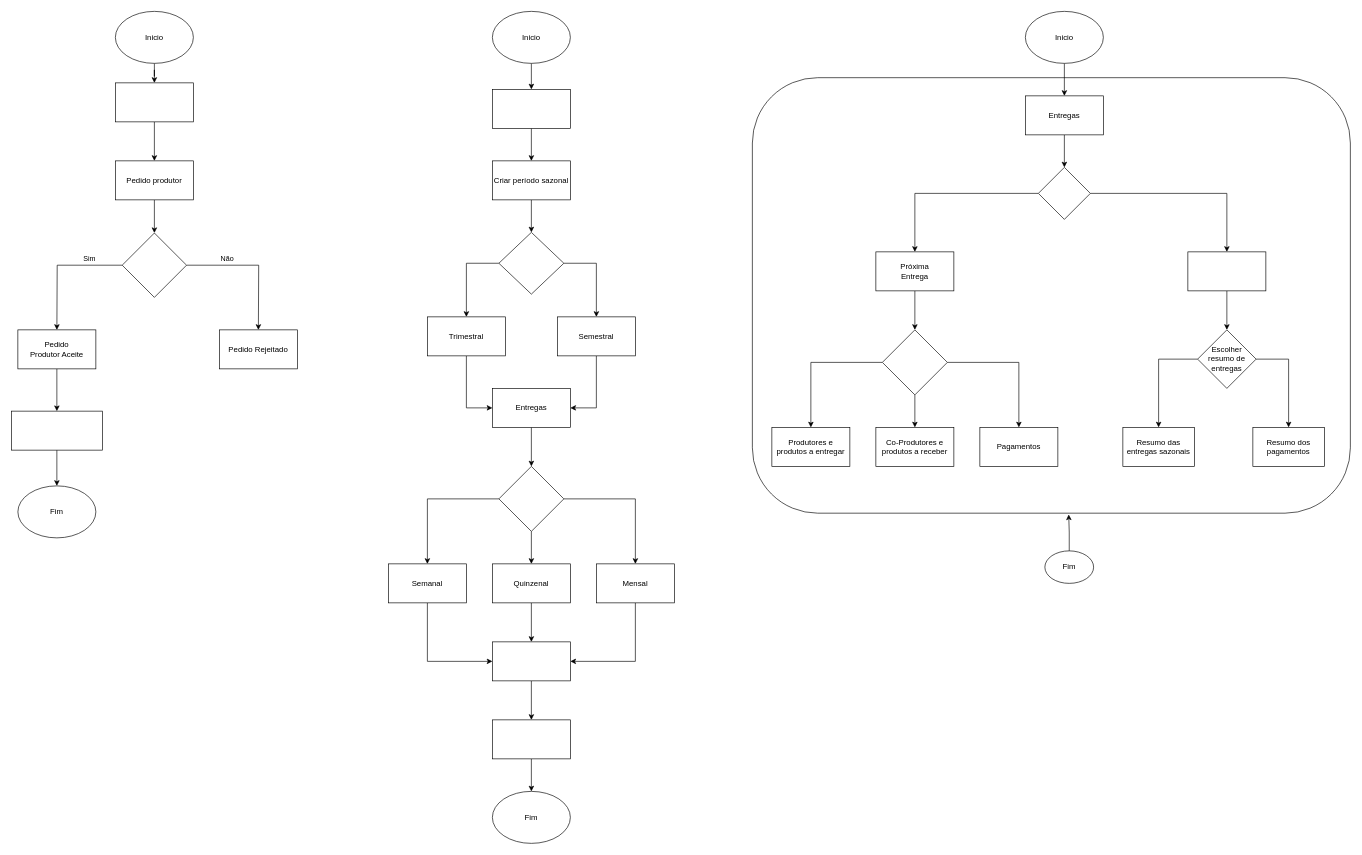
This 1362x855 diagram has some shape labels left out. The shapes that lost their labels are listed below. From the top down, each one's centre as x and y in pixels, then its label:
At (x=154, y=102): "Gerir produtores AMAP".
At (x=531, y=108): "Gerir períodos sazonais AMAP".
At (x=1064, y=193): "Escolher entregas".
At (x=154, y=264): "Validar lista de produtos".
At (x=531, y=263): "Definir período sazonal".
At (x=1226, y=271): "Entregas período sazonal".
At (x=914, y=362): "Escolher informação entrega".
At (x=56, y=430): "Definir categorias(s) de produto(s) a autorizados na AMAP".
At (x=531, y=498): "Definir frequência de entregas".
At (x=531, y=661): "Definir local e hora".
At (x=531, y=739): "Notificar produtores".
